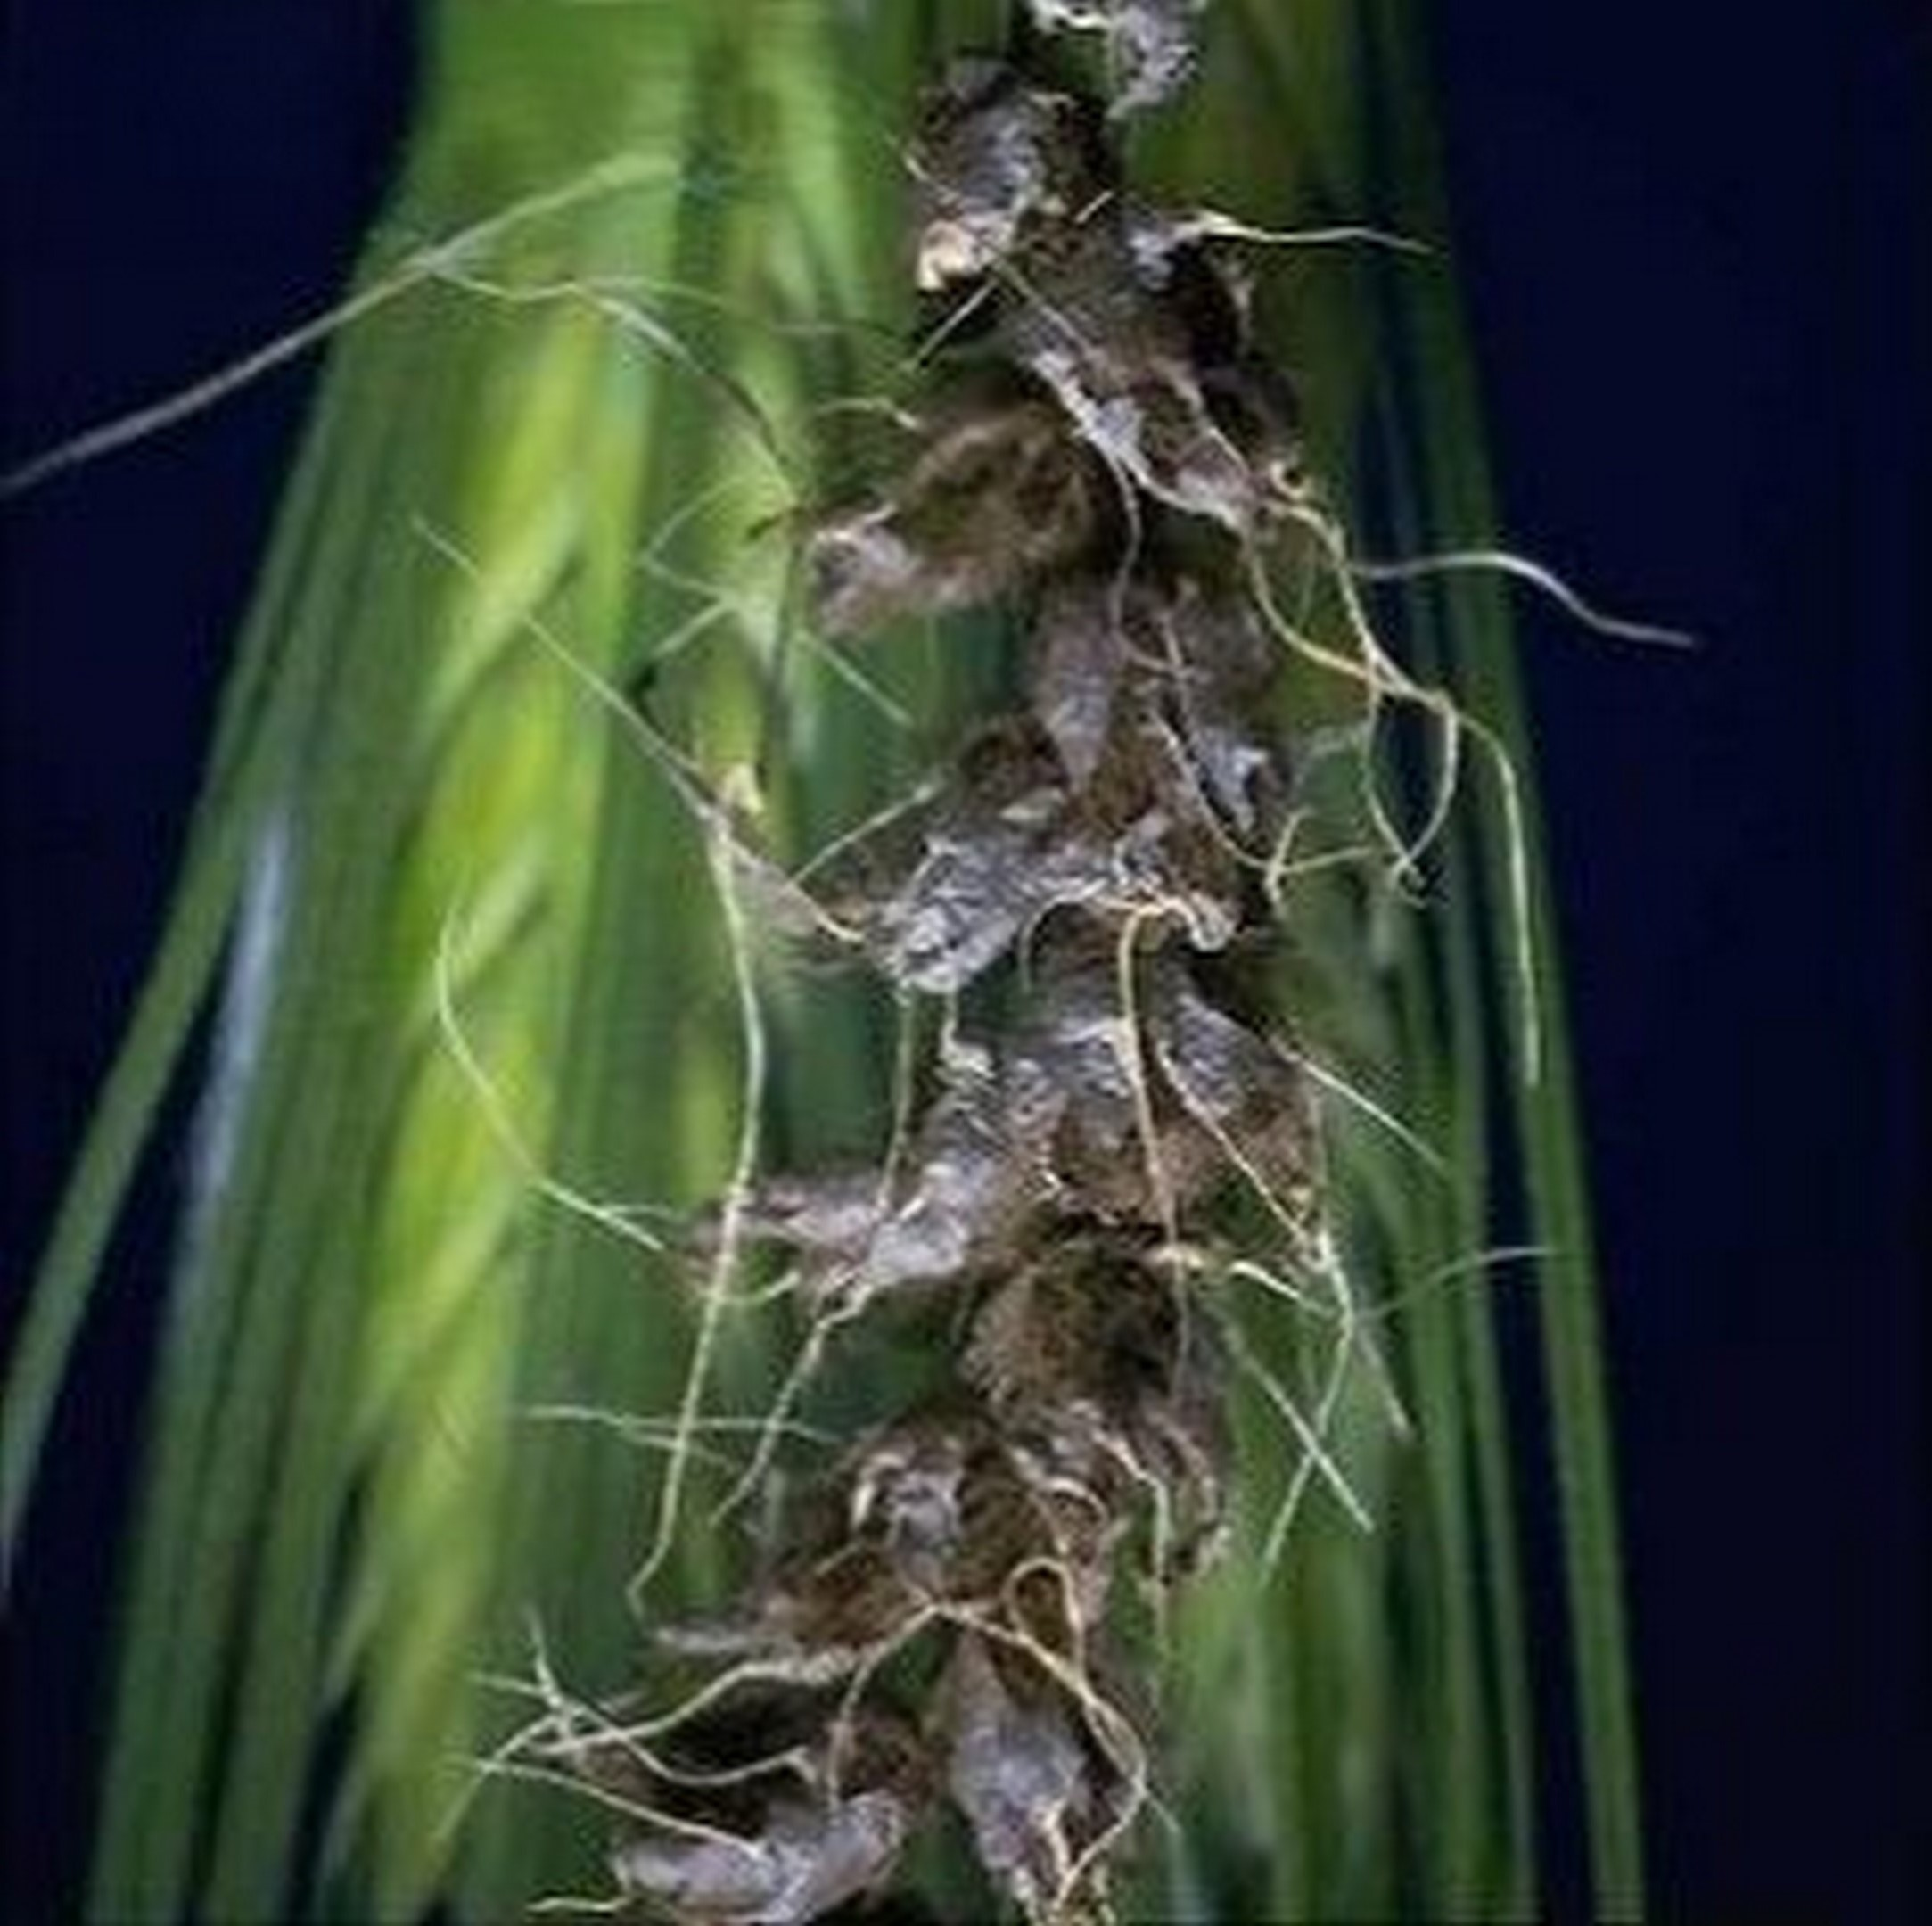Wheat Loose Smut: (661, 4, 1384, 1831)
